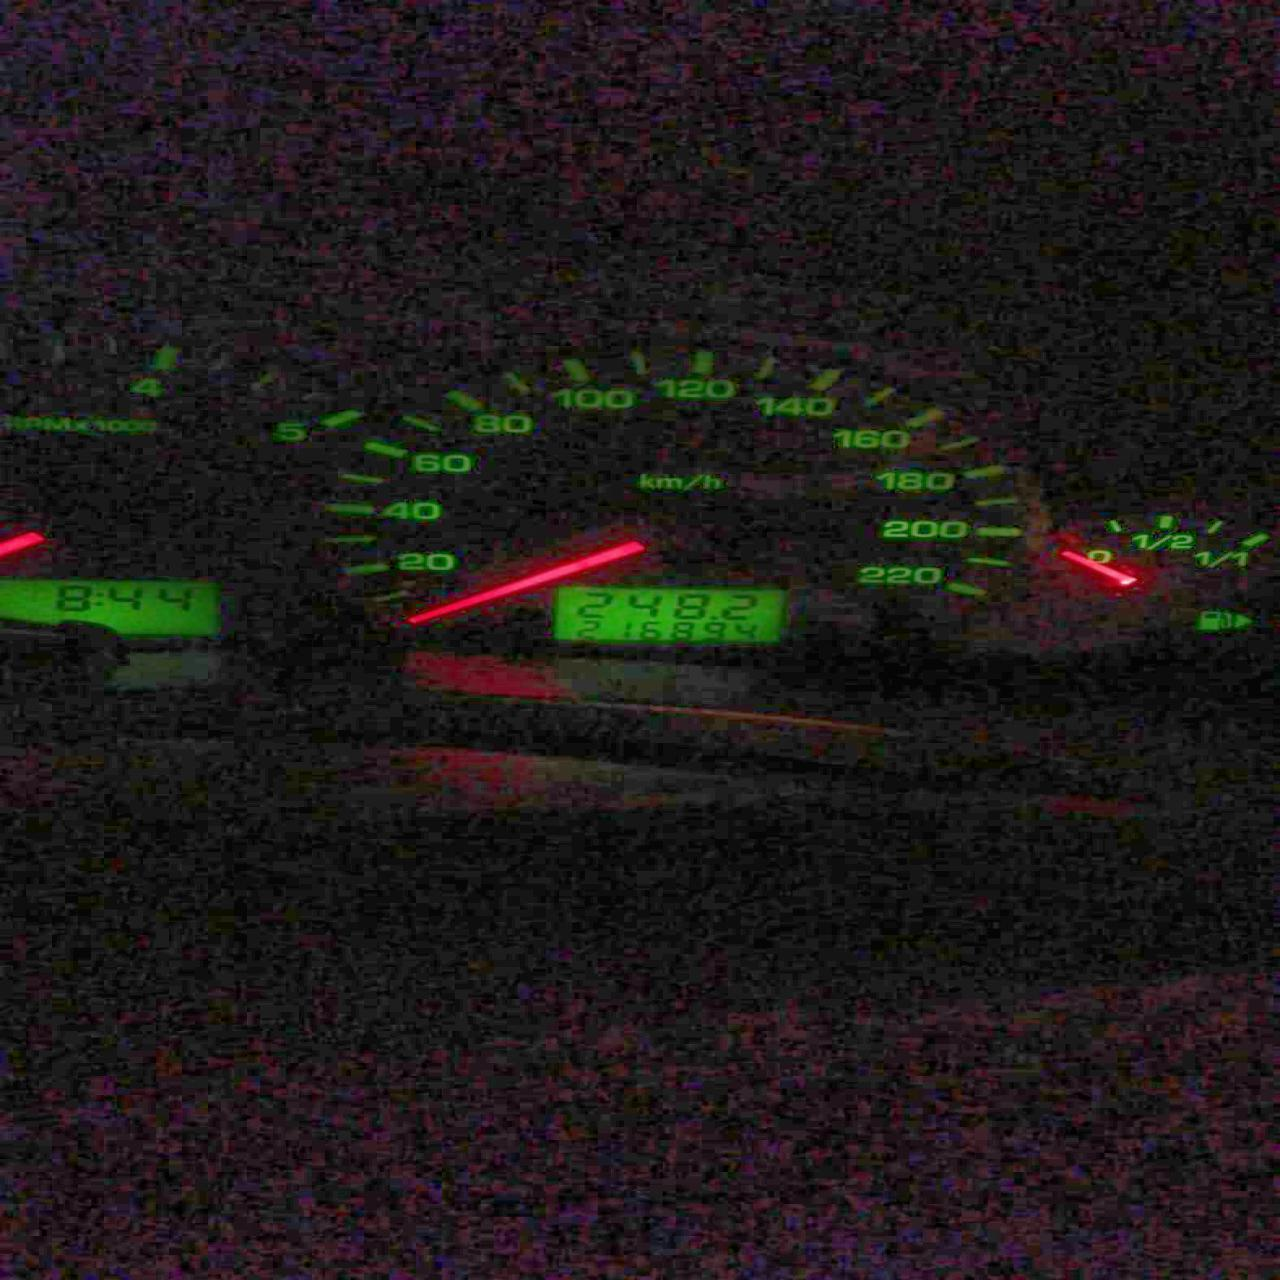-: (707, 614, 719, 620)
1: (620, 620, 632, 639)
2: (573, 591, 613, 619), (721, 592, 757, 620), (574, 619, 599, 639)
4: (624, 594, 662, 617), (734, 621, 757, 640)
6: (636, 620, 661, 640)
8: (669, 592, 708, 620), (669, 621, 692, 640)
9: (702, 621, 724, 640)
odometer: (549, 584, 787, 642)
